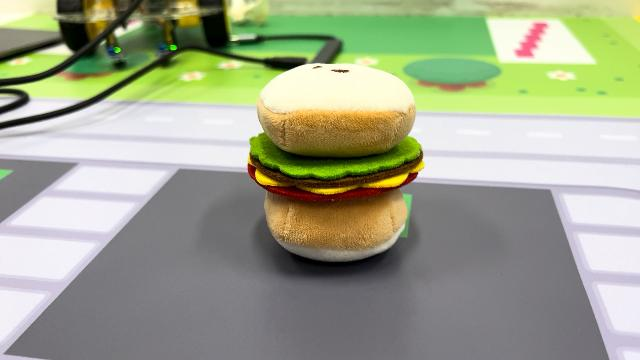sandwich: (246, 60, 427, 264)
